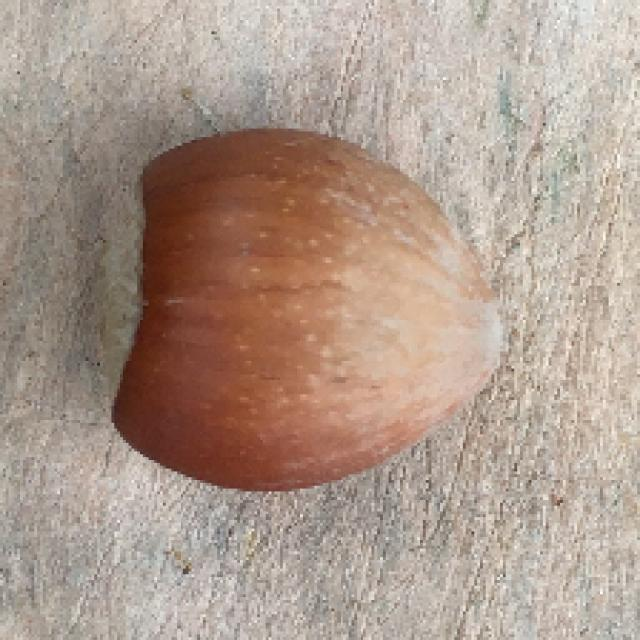qualityHazelnut: (92, 101, 521, 517)
